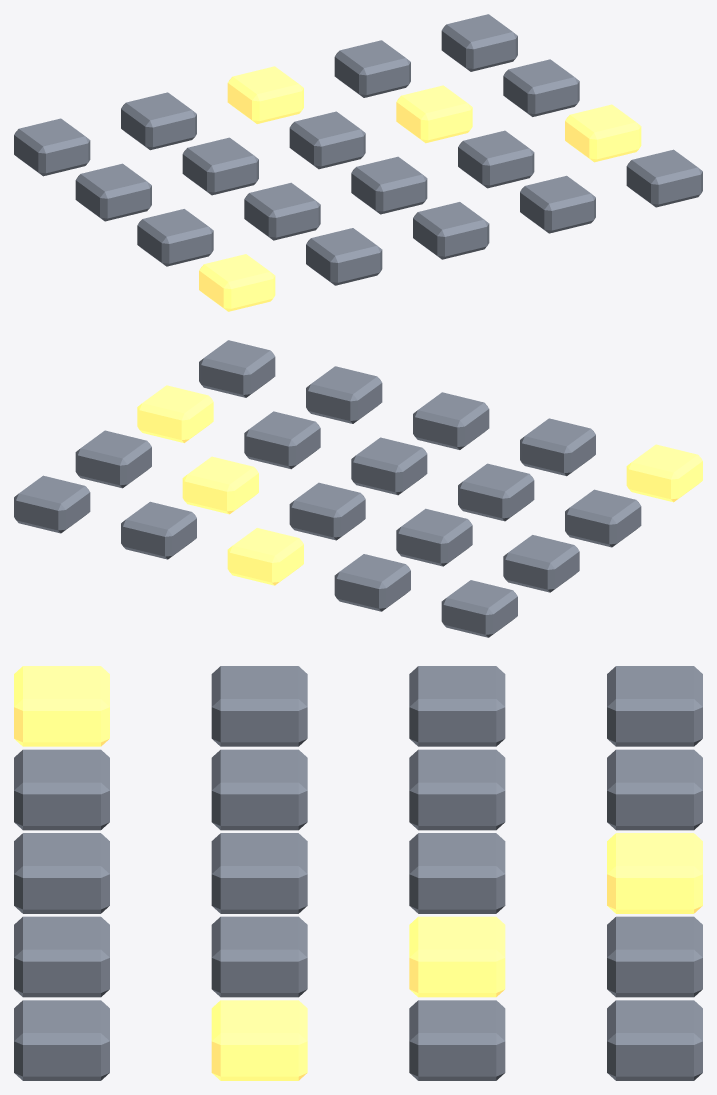
Rendered from reinforced_wall.glb.
3 renders of one model, top to bottom at view 1: azimuth 30°, elevation 25°; view 2: azimuth 150°, elevation 25°; view 3: azimuth 270°, elevation 25°, orthographic. The views are drawn at different scales.
Parts seen in each view (by area): view 1: reinforced_wall; view 2: reinforced_wall; view 3: reinforced_wall.
Part boxes in pixels (box(x1,y1,x2,y2)): reinforced_wall: box(14, 14, 702, 311); reinforced_wall: box(14, 340, 702, 637); reinforced_wall: box(14, 666, 702, 1080).
Bounding box in the file's own units: 2.96 × 0.176 × 2.3.
